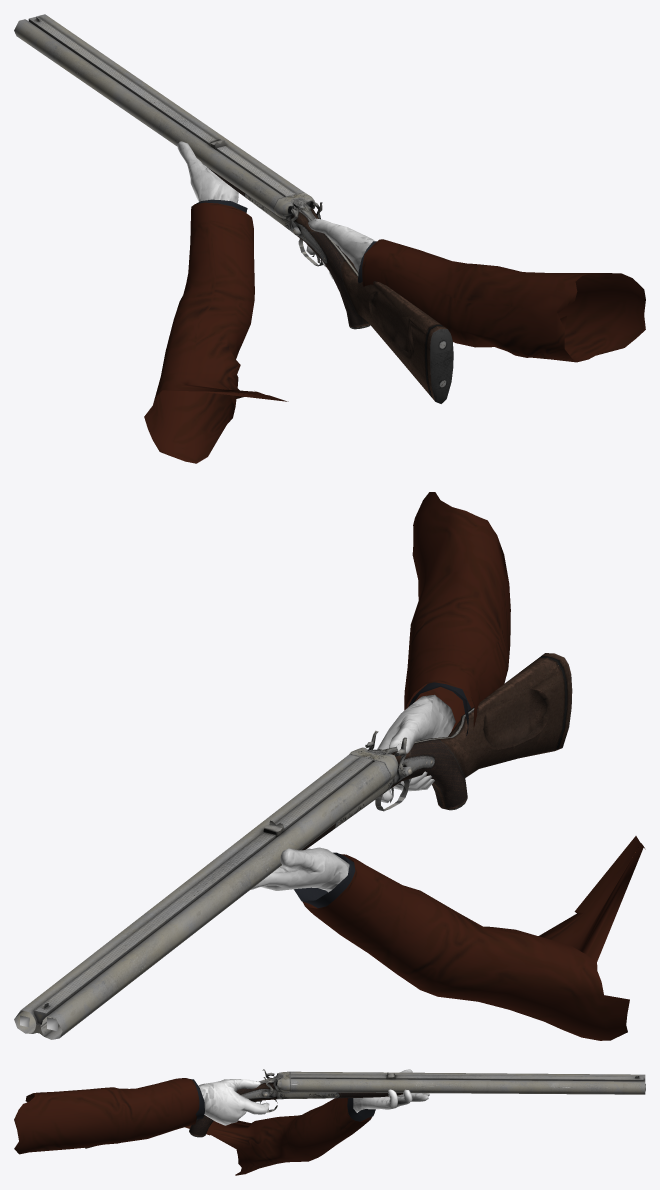
File: frame_28.obj
3 renders of one model, top to bottom at view 1: azimuth 30°, elevation 25°; view 2: azimuth 150°, elevation 25°; view 3: azimuth 270°, elevation 25°, orthographic. The views are drawn at different scales.
Visible parts, largest first — view 1: PlayerModelMerged.001_PlayerModelMerged, double_-_barreled_shotgun_L_double_-_barreled_shotgun_LP_к.002, double_-_barreled_shotgun_L_double_-_barreled_shotgun_LP_к.001; view 2: PlayerModelMerged.001_PlayerModelMerged, double_-_barreled_shotgun_L_double_-_barreled_shotgun_LP_к.002, double_-_barreled_shotgun_L_double_-_barreled_shotgun_LP_к.001; view 3: PlayerModelMerged.001_PlayerModelMerged, double_-_barreled_shotgun_L_double_-_barreled_shotgun_LP_к.002, double_-_barreled_shotgun_L_double_-_barreled_shotgun_LP_к.001.
Part boxes in pixels (left/top/right/bottom): PlayerModelMerged.001_PlayerModelMerged: left=144, top=141, right=645, bottom=463; double_-_barreled_shotgun_L_double_-_barreled_shotgun_LP_к.002: left=14, top=14, right=303, bottom=213; double_-_barreled_shotgun_L_double_-_barreled_shotgun_LP_к.001: left=207, top=167, right=453, bottom=403; PlayerModelMerged.001_PlayerModelMerged: left=250, top=492, right=645, bottom=1040; double_-_barreled_shotgun_L_double_-_barreled_shotgun_LP_к.002: left=14, top=755, right=390, bottom=1039; double_-_barreled_shotgun_L_double_-_barreled_shotgun_LP_к.001: left=301, top=653, right=572, bottom=850; PlayerModelMerged.001_PlayerModelMerged: left=14, top=1069, right=429, bottom=1175; double_-_barreled_shotgun_L_double_-_barreled_shotgun_LP_к.002: left=290, top=1071, right=645, bottom=1094; double_-_barreled_shotgun_L_double_-_barreled_shotgun_LP_к.001: left=85, top=1069, right=403, bottom=1148.
Size of the model in its own units: 0.8474 by 0.5717 by 2.
